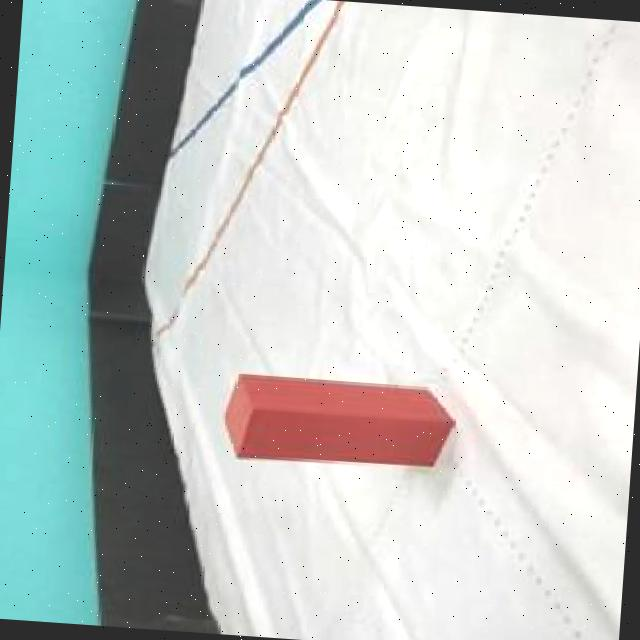redbox: (217, 372, 453, 472)
